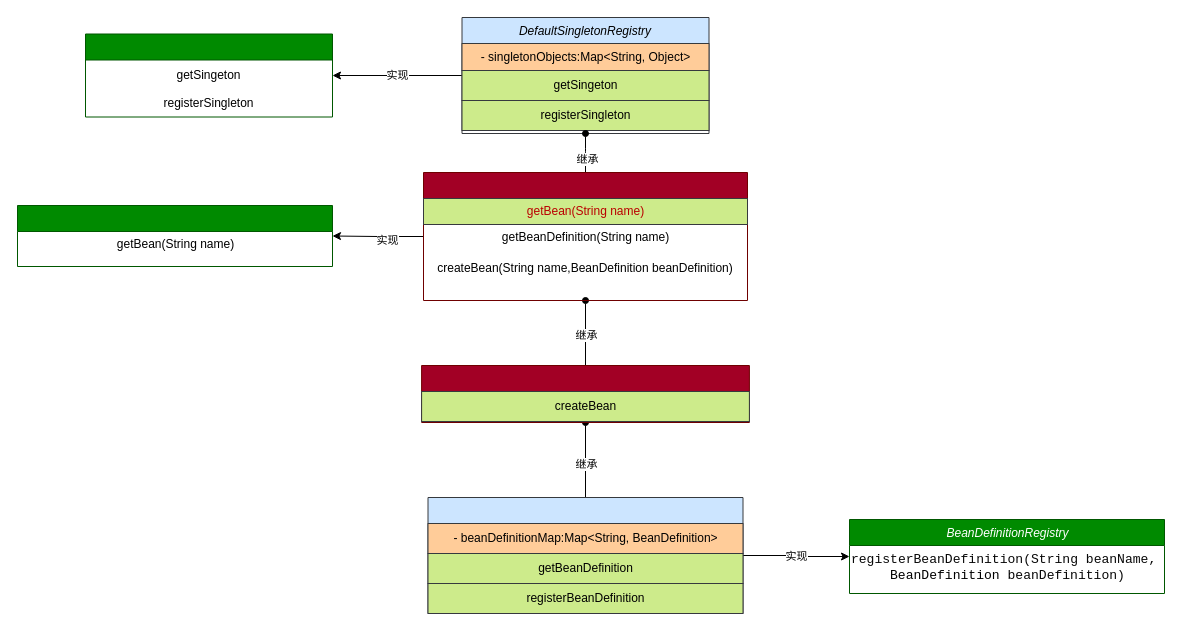
The diagram is 1182 pixels wide and 631 high, and some of its shapes have lost their labels. The shapes that lost their labels are listed below. From the top down, each one's box as (x1, y1, x2, y2) in pixels, then its label:
(84, 33, 332, 117): SingletonRegistry
(16, 204, 332, 266): BeanFactory
(422, 172, 748, 300): AbstractBeanFactory
(421, 364, 749, 422): AbstractAutowireCapableBeanFactory
(427, 496, 743, 614): DefaultListableBeanFactory
